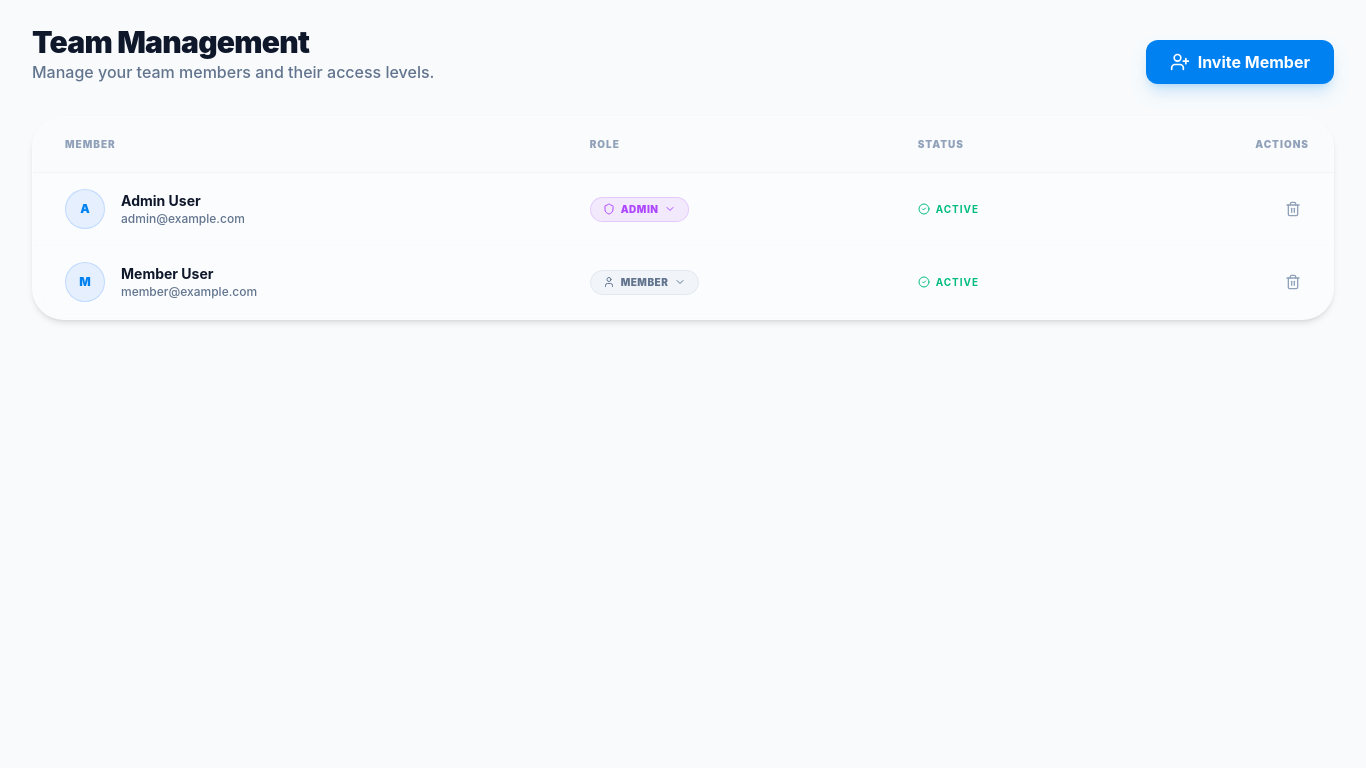
Scenario: UserManagement › should allow opening the invite modal
Expected: the text "Admin User" is shown, [121, 192, 201, 209]
Click the button "Invite Member" at (1240, 62), box [1146, 40, 1334, 84]
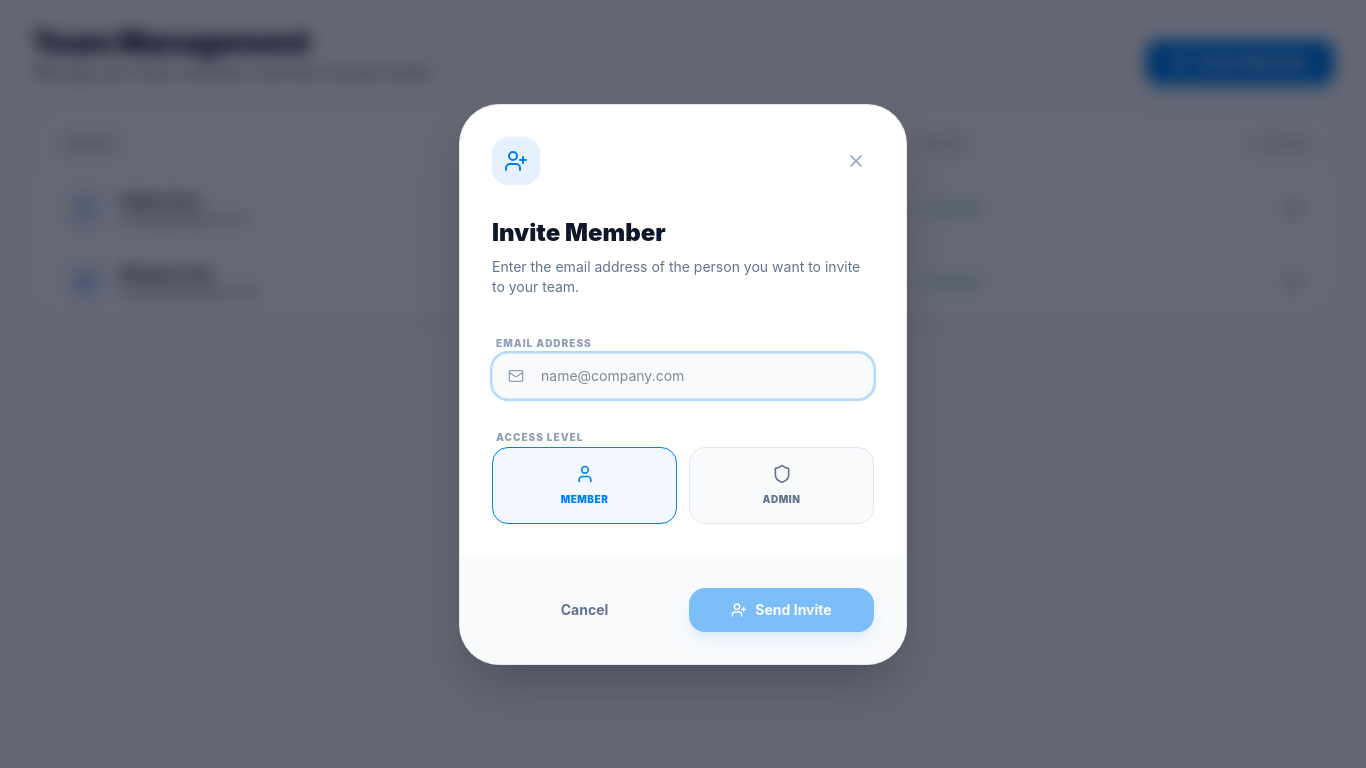
Now the text "Enter the email address of the person you want to invite to your team." is shown, box [492, 256, 874, 296]
